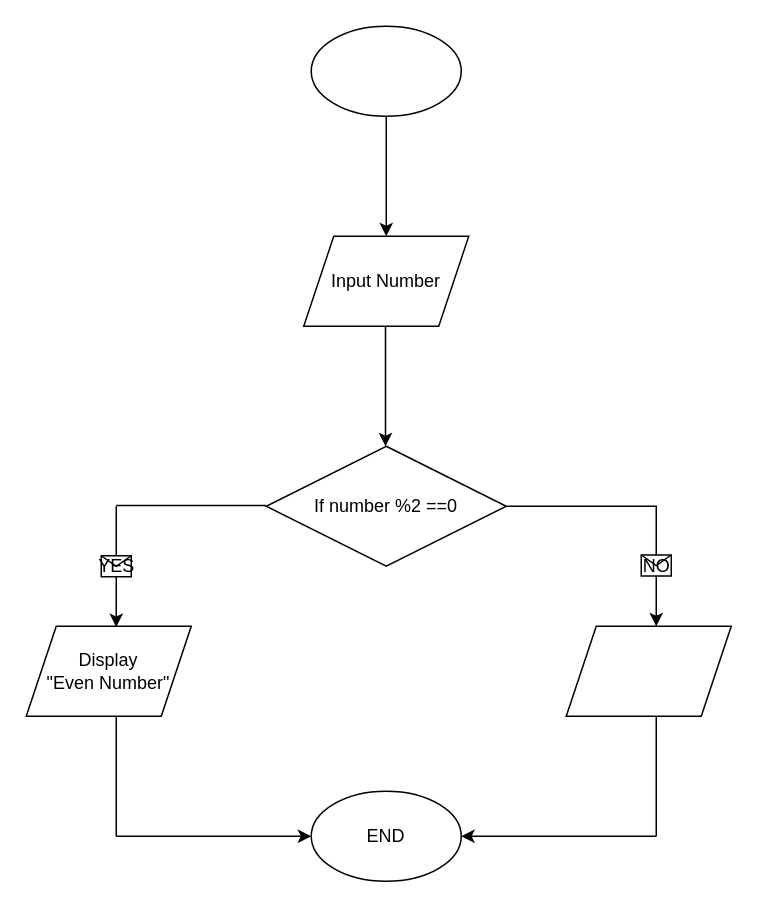
Some shapes in this 758 by 908 pixel diagram are drawn without their labels. The centre of each missing label's shape, as x and y in pixels:
Display "Odd Number": (648,670)
START: (385,70)
